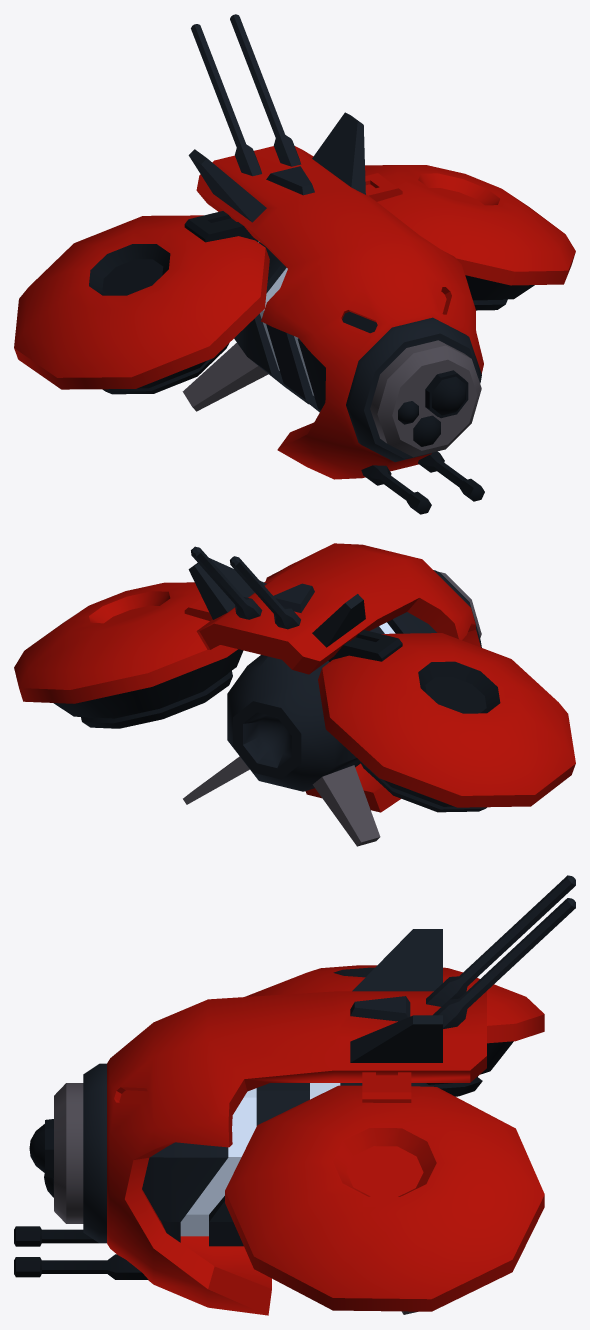
File: droneStinger.fbx
The picture shows the model from 3 angles, top to bottom: view 1: azimuth 30°, elevation 25°; view 2: azimuth 150°, elevation 25°; view 3: azimuth 270°, elevation 25°; orthographic projection. The views are drawn at different scales.
Parts seen in each view (by area): view 1: SM_Prop_Drone_03; view 2: SM_Prop_Drone_03; view 3: SM_Prop_Drone_03.
Boxes of the visible parts, x1=… form: SM_Prop_Drone_03: x1=14, y1=14, x2=575, y2=514; SM_Prop_Drone_03: x1=14, y1=543, x2=575, y2=846; SM_Prop_Drone_03: x1=14, y1=875, x2=575, y2=1315.
Bounding box in the file's own units: 1.69 × 1.34 × 1.07.
